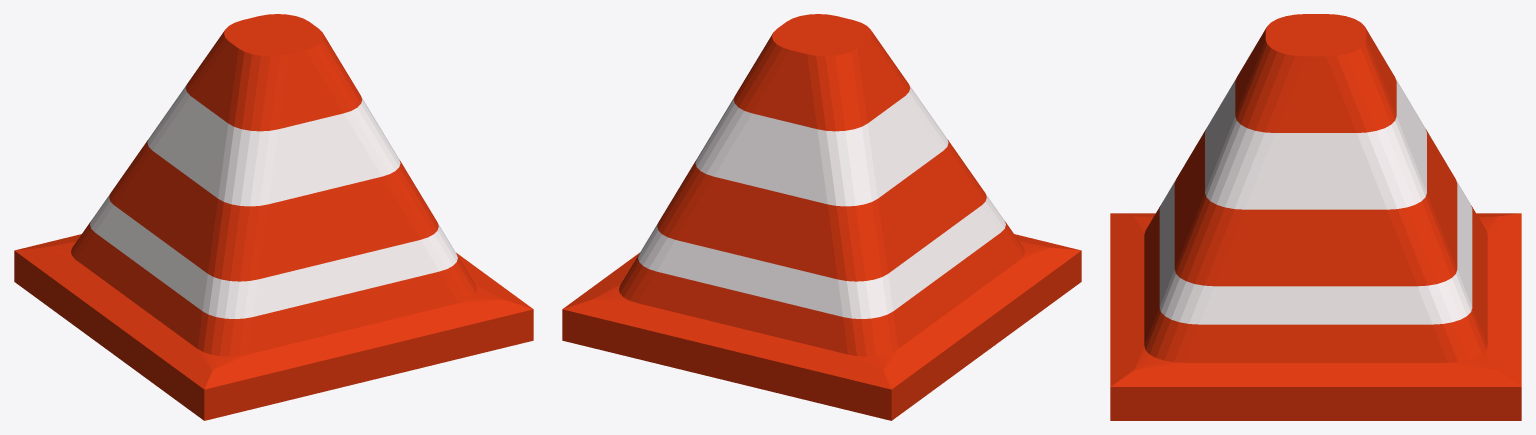
Rendered from hinh_1.fbx.
The picture shows the model from 3 angles, left to right: view 1: azimuth 30°, elevation 25°; view 2: azimuth 150°, elevation 25°; view 3: azimuth 270°, elevation 25°; orthographic projection. The views are drawn at different scales.
Visible parts, largest first — view 1: Cube; view 2: Cube; view 3: Cube.
Boxes of the visible parts, bbox=[...] form: Cube: bbox=[14, 14, 533, 420]; Cube: bbox=[562, 14, 1081, 420]; Cube: bbox=[1110, 14, 1521, 420].
Size of the model in its own units: 200 by 160 by 200.
